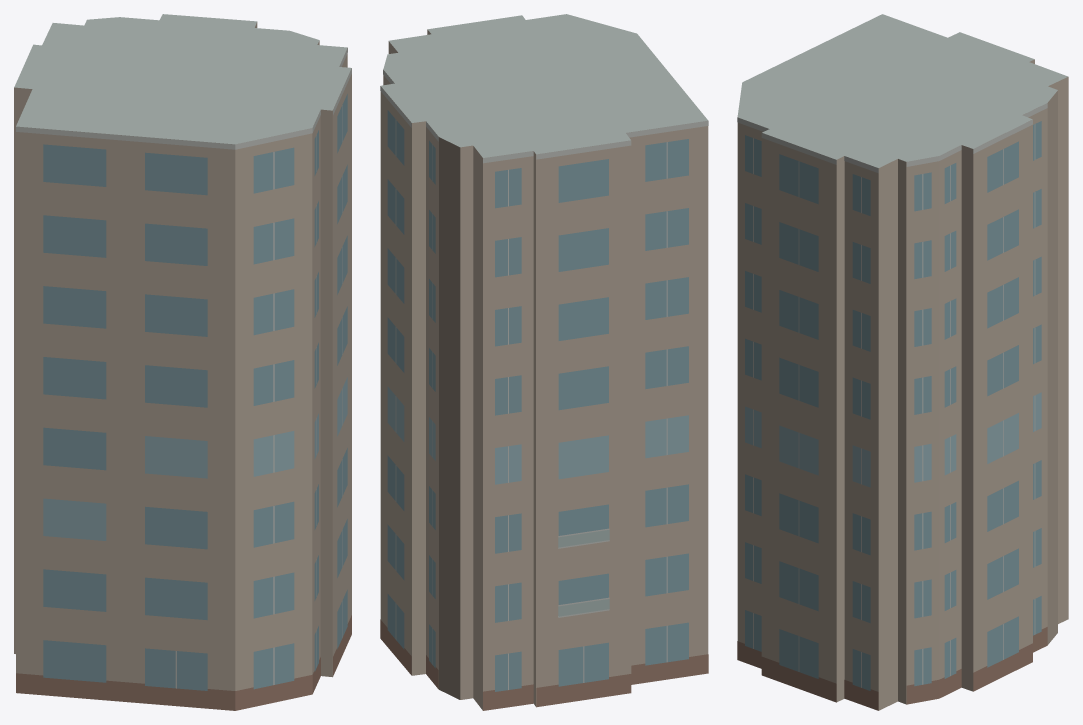
File: survey-upis-32529210.glb
The picture shows the model from 3 angles, left to right: view 1: azimuth 30°, elevation 25°; view 2: azimuth 150°, elevation 25°; view 3: azimuth 270°, elevation 25°; orthographic projection. The views are drawn at different scales.
Parts seen in each view (by area): view 1: survey-upis-32529210.tmp; view 2: survey-upis-32529210.tmp; view 3: survey-upis-32529210.tmp.
Part boxes in pixels (bbox=[...]): survey-upis-32529210.tmp: bbox=[14, 14, 351, 710]; survey-upis-32529210.tmp: bbox=[380, 14, 708, 710]; survey-upis-32529210.tmp: bbox=[737, 14, 1068, 710].
Bounding box in the file's own units: 15.73 × 25.8 × 14.27.
